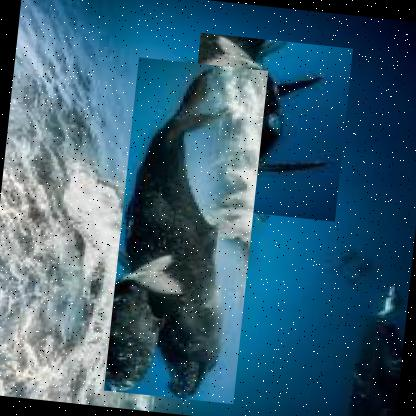blue_whale: (104, 56, 268, 404), (183, 31, 354, 221)
